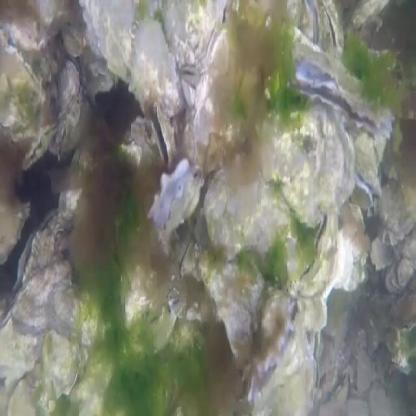Oyster- Indeterminate: (276, 96, 354, 229), (76, 0, 158, 81), (0, 272, 53, 379), (0, 31, 44, 131), (14, 208, 62, 290), (42, 331, 80, 397), (0, 204, 30, 264), (21, 122, 56, 173), (320, 0, 343, 59), (179, 240, 196, 279), (58, 122, 70, 161)
Oyster-Closed: (203, 163, 289, 257), (131, 20, 185, 114), (157, 0, 219, 65), (335, 205, 369, 293), (258, 124, 303, 182), (379, 180, 416, 233), (262, 288, 290, 347), (57, 56, 82, 113), (354, 0, 390, 28), (356, 350, 373, 391), (370, 239, 394, 268), (397, 259, 414, 286)
Oyster-Open: (249, 301, 318, 416), (287, 70, 393, 135), (148, 160, 205, 235), (294, 210, 339, 296), (293, 42, 339, 85), (151, 106, 177, 162), (182, 65, 200, 82)
